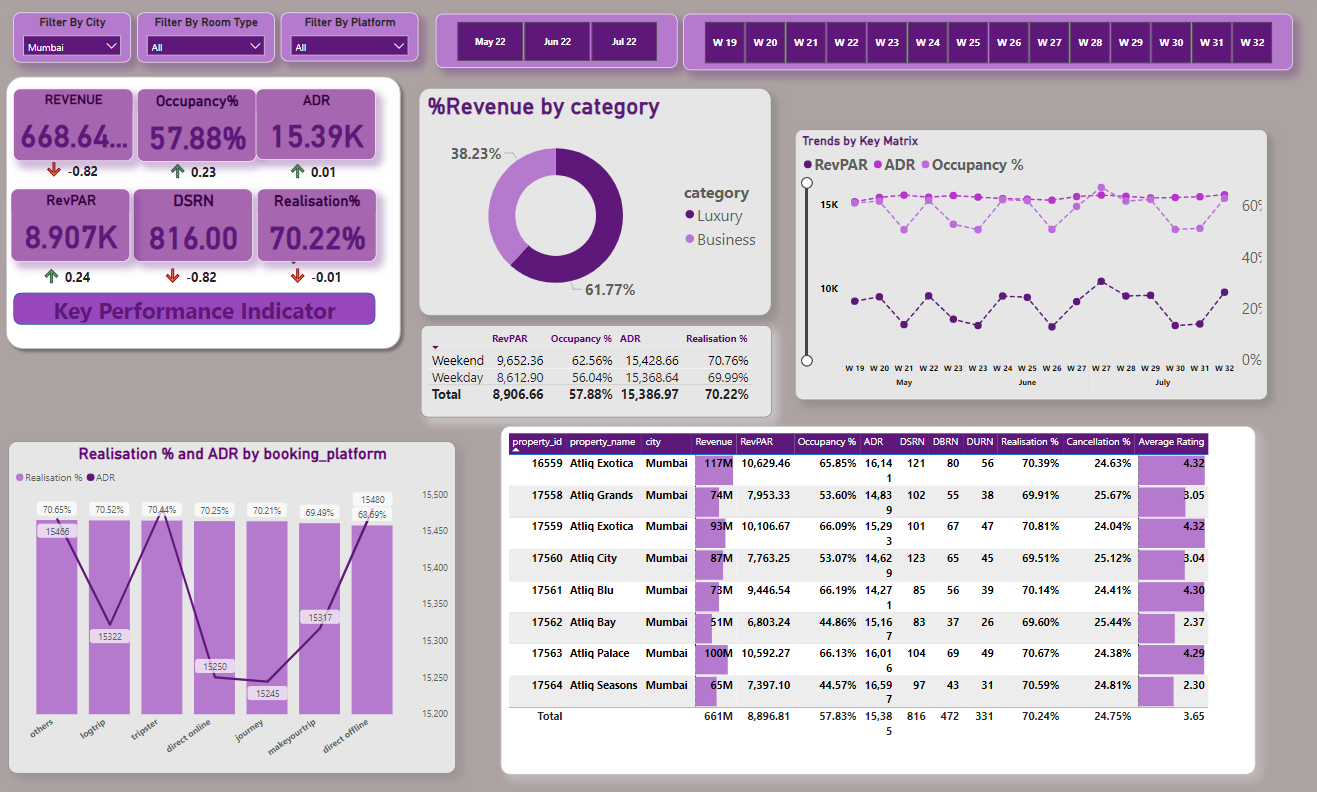

The dashboard page shown, as its layout file describes it:
{"tool":"powerbi","page":{"name":"home","canvas":[1800,1100],"ordinal":0},"visuals":[{"type":"tableEx","fields":{"Values":["dim_hotels.property_id","dim_hotels.property_name","dim_hotels.city","key_measure.Revenue","key_measure.RevPAR","key_measure.Occupancy %","key_measure.ADR","key_measure.DSRN","key_measure.DBRN","key_measure.DURN","key_measure.Realisation %","key_measure.Cancellation %"]},"box":[685.7,585.7,1026.8,473.2],"z":0},{"type":"shape","title":"KEY P","box":[3.4,102,554.3,387.6],"z":1000},{"type":"tableEx","fields":{"Values":["key_measure.Revenue WoW change %"]},"box":[55.4,192.5,95.7,68.6],"z":2000},{"type":"card","title":"REVENUE","fields":{"Values":["key_measure.Revenue"]},"box":[21.8,126.8,162.9,98.6],"z":3000},{"type":"tableEx","fields":{"Values":["key_measure.Occupancy WoW change %"]},"box":[224.9,193,95.2,69.1],"z":4000},{"type":"tableEx","fields":{"Values":["key_measure.ADR WoW change %"]},"box":[387.6,193,112.4,70.8],"z":5000},{"type":"tableEx","fields":{"Values":["key_measure.Revenue WoW change %"]},"box":[217.3,336.7,95.3,68.5],"z":6000},{"type":"tableEx","fields":{"Values":["key_measure.Realisation WoW change %"]},"box":[387.6,336.9,91,68.5],"z":7000},{"type":"tableEx","fields":{"Values":["key_measure.Revpar WoW change %"]},"box":[52.9,336.7,95.3,68.5],"z":8000},{"type":"card","title":"Occupancy%","fields":{"Values":["key_measure.Occupancy %"]},"box":[191.3,127.7,162.5,99],"z":9000},{"type":"card","title":"ADR","fields":{"Values":["key_measure.ADR"]},"box":[351.9,127.5,163.2,96.9],"z":10000},{"type":"card","title":"DSRN","fields":{"Values":["key_measure.DSRN"]},"box":[186.1,263,162.6,99],"z":11000},{"type":"card","title":"RevPAR","fields":{"Values":["key_measure.RevPAR"]},"box":[19.3,263,162.6,99],"z":12000},{"type":"card","title":"Realisation%","fields":{"Values":["key_measure.Realisation %"]},"box":[354.1,264.1,162.5,99],"z":13000},{"type":"slicer","title":"Filter By City","fields":{"Values":["dim_hotels.city"]},"box":[22.1,23.8,159.8,68],"z":14000},{"type":"slicer","title":"Filter By Room Type","fields":{"Values":["dim_rooms.room_class"]},"box":[190.4,23.8,187,68],"z":15000},{"type":"slicer","fields":{"Values":["dim_date.mmm yy"]},"box":[596.4,25,328.6,73.2],"z":16000},{"type":"slicer","title":"Filter By Week","fields":{"Values":["dim_date.week no"]},"box":[933.9,25,828.6,76.8],"z":17000},{"type":"donutChart","title":"%Revenue by category","fields":{"Category":["dim_hotels.category"],"Y":["key_measure.Revenue"]},"box":[574.7,127.5,477.7,307.7],"z":18000},{"type":"lineChart","title":"Trends by Key Matrix","fields":{"Category":["dim_date.mmm yy.Variation.Date Hierarchy.Month","dim_date.week no"],"Y":["key_measure.RevPAR","key_measure.ADR"],"Y2":["key_measure.Occupancy %"]},"box":[1085.7,183.9,641.1,366.1],"z":19000},{"type":"lineStackedColumnComboChart","fields":{"Category":["fact_bookings.booking_platform"],"Y":["key_measure.Realisation %"],"Y2":["key_measure.ADR"]},"box":[16.1,607.1,608.9,451.8],"z":20000},{"type":"tableEx","fields":{"Values":["dim_date.day_type","key_measure.RevPAR","key_measure.Occupancy %","key_measure.ADR","key_measure.Realisation %"]},"box":[576.4,448.8,477.7,125.8],"z":21000},{"type":"slicer","title":"Filter By Platform","fields":{"Values":["fact_bookings.booking_platform"]},"box":[385.9,23.8,187,66.3],"z":22000},{"type":"shape","box":[22.1,404.6,493,44.2],"z":23000}]}

Visuals, with their boxes in screenshot pixels (x1, y1, x2, y2), scaled from the page's 1800x1100 canvas onto the 1317x792 screenshot:
tableEx - dim_hotels.property_id x dim_hotels.property_name: box=[502, 422, 1253, 762]
"KEY P" shape: box=[2, 73, 408, 353]
tableEx - key_measure.Revenue WoW change %: box=[41, 139, 111, 188]
"REVENUE" card: box=[16, 91, 135, 162]
tableEx - key_measure.Occupancy WoW change %: box=[165, 139, 234, 189]
tableEx - key_measure.ADR WoW change %: box=[284, 139, 366, 190]
tableEx - key_measure.Revenue WoW change %: box=[159, 242, 229, 292]
tableEx - key_measure.Realisation WoW change %: box=[284, 243, 350, 292]
tableEx - key_measure.Revpar WoW change %: box=[39, 242, 108, 292]
"Occupancy%" card: box=[140, 92, 259, 163]
"ADR" card: box=[257, 92, 377, 162]
"DSRN" card: box=[136, 189, 255, 261]
"RevPAR" card: box=[14, 189, 133, 261]
"Realisation%" card: box=[259, 190, 378, 261]
"Filter By City" slicer: box=[16, 17, 133, 66]
"Filter By Room Type" slicer: box=[139, 17, 276, 66]
slicer - dim_date.mmm yy: box=[436, 18, 677, 71]
"Filter By Week" slicer: box=[683, 18, 1290, 73]
"%Revenue by category" donutChart: box=[420, 92, 770, 313]
"Trends by Key Matrix" lineChart: box=[794, 132, 1263, 396]
lineStackedColumnComboChart - fact_bookings.booking_platform x key_measure.Realisation %: box=[12, 437, 457, 762]
tableEx - dim_date.day_type x key_measure.RevPAR: box=[422, 323, 771, 414]
"Filter By Platform" slicer: box=[282, 17, 419, 65]
shape: box=[16, 291, 377, 323]
